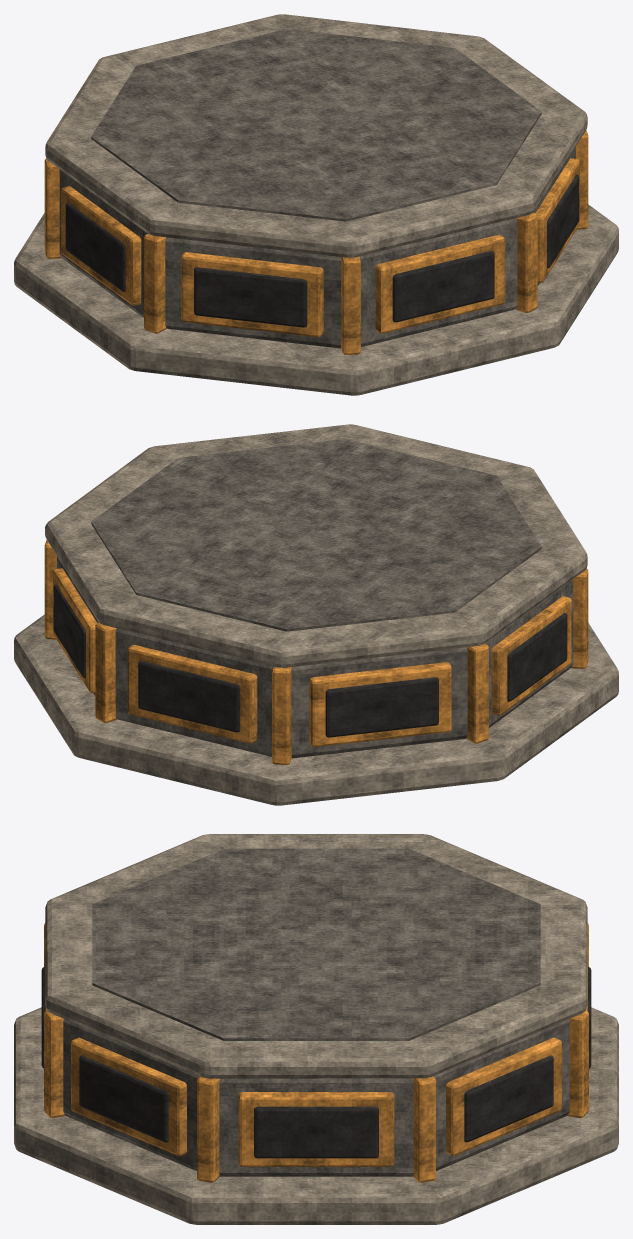
Rendered from base_octagon.glb.
3 views of the same model, one above another, from view 1: azimuth 30°, elevation 25°; view 2: azimuth 150°, elevation 25°; view 3: azimuth 270°, elevation 25° (orthographic). The views are drawn at different scales.
Parts seen in each view (by area): view 1: cap_inset, cap, lip, body, pan7_fill, pan0_fill, pan7_frame, pan0_frame, pan6_frame, pan6_fill, trim6, trim0 (+5 smaller); view 2: cap_inset, cap, lip, body, pan5_fill, pan4_fill, pan5_frame, pan4_frame, pan6_frame, pan6_fill, trim5, trim3 (+5 smaller); view 3: cap_inset, cap, lip, body, pan2_fill, pan2_frame, pan1_fill, pan3_fill, pan1_frame, pan3_frame, trim2, trim1 (+2 smaller).
Part boxes in pixels (bbox=[...]): cap_inset: bbox=[91, 29, 541, 221]; cap: bbox=[45, 14, 587, 257]; lip: bbox=[14, 204, 618, 395]; body: bbox=[59, 146, 575, 348]; pan7_fill: bbox=[194, 267, 307, 327]; pan0_fill: bbox=[392, 250, 494, 322]; pan7_frame: bbox=[181, 252, 323, 337]; pan0_frame: bbox=[375, 234, 505, 333]; pan6_frame: bbox=[61, 186, 141, 305]; pan6_fill: bbox=[65, 203, 125, 291]; trim6: bbox=[144, 233, 166, 333]; trim0: bbox=[516, 212, 537, 312]; cap_inset: bbox=[91, 439, 541, 631]; cap: bbox=[45, 424, 587, 667]; lip: bbox=[14, 614, 618, 805]; body: bbox=[57, 556, 573, 758]; pan5_fill: bbox=[325, 677, 438, 737]; pan4_fill: bbox=[138, 660, 240, 732]; pan5_frame: bbox=[309, 662, 451, 747]; pan4_frame: bbox=[127, 644, 257, 743]; pan6_frame: bbox=[491, 596, 571, 715]; pan6_fill: bbox=[507, 613, 567, 701]; trim5: bbox=[467, 643, 488, 743]; trim3: bbox=[95, 622, 116, 722]; cap_inset: bbox=[92, 848, 540, 1040]; cap: bbox=[45, 834, 587, 1078]; lip: bbox=[14, 1007, 618, 1224]; body: bbox=[63, 1019, 569, 1176]; pan2_fill: bbox=[254, 1106, 378, 1158]; pan2_frame: bbox=[238, 1092, 394, 1166]; pan1_fill: bbox=[79, 1055, 168, 1142]; pan3_fill: bbox=[464, 1055, 553, 1142]; pan1_frame: bbox=[71, 1037, 186, 1155]; pan3_frame: bbox=[446, 1037, 561, 1155]; trim2: bbox=[413, 1076, 435, 1182]; trim1: bbox=[197, 1076, 219, 1182].
Size of the model in its own units: 1.07 by 0.305 by 1.07.
4 materials, 4 textured.
